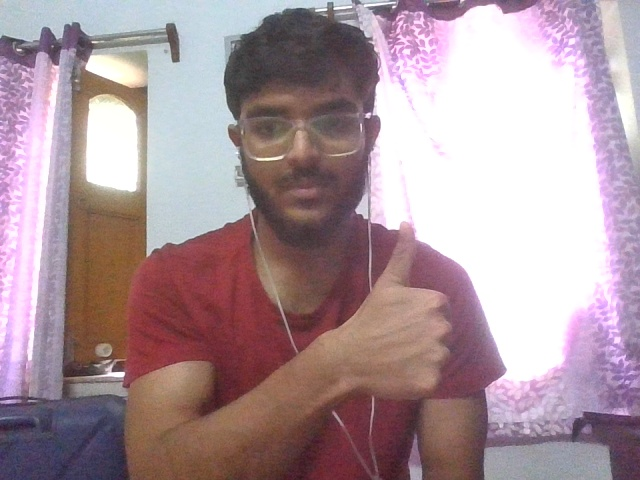ThumbsUp: (349, 220, 452, 401)
